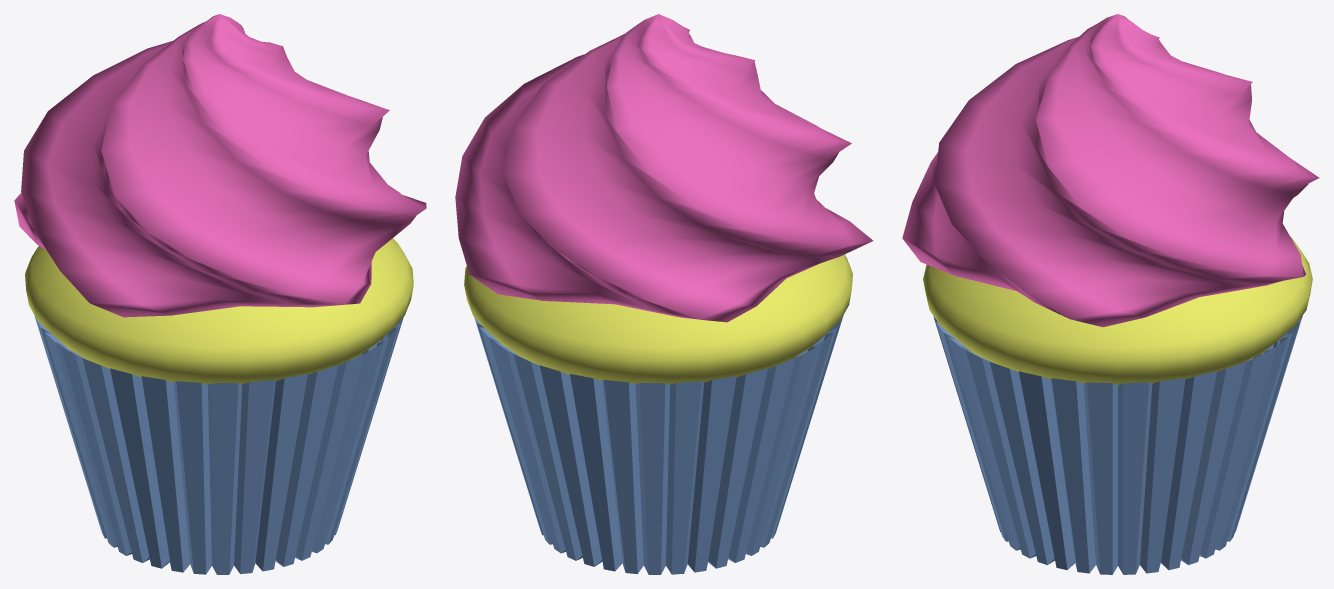
The model's file is cupcake good.fbx.
3 renders of one model, left to right at view 1: azimuth 30°, elevation 25°; view 2: azimuth 150°, elevation 25°; view 3: azimuth 270°, elevation 25°, orthographic.
Parts seen in each view (by area): view 1: Star, Circle.001, Sphere; view 2: Star, Circle.001, Sphere; view 3: Star, Circle.001, Sphere.
Part boxes in pixels (left/top/right/bottom): Star: left=14, top=14, right=426, bottom=317; Circle.001: left=34, top=316, right=403, bottom=574; Sphere: left=25, top=238, right=413, bottom=384; Star: left=455, top=14, right=873, bottom=322; Circle.001: left=474, top=315, right=843, bottom=574; Sphere: left=464, top=254, right=852, bottom=384; Star: left=902, top=14, right=1319, bottom=327; Circle.001: left=933, top=316, right=1302, bottom=574; Sphere: left=923, top=236, right=1312, bottom=384.
Size of the model in its own units: 190 by 257 by 191.
